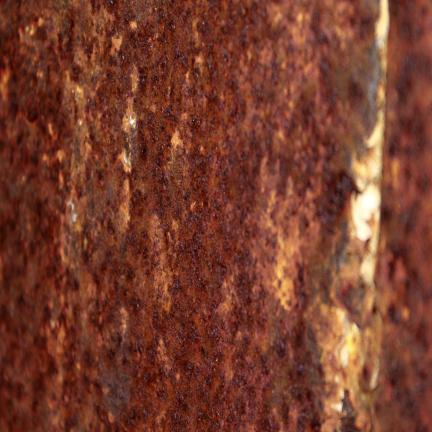karat: (3, 8, 312, 416)
